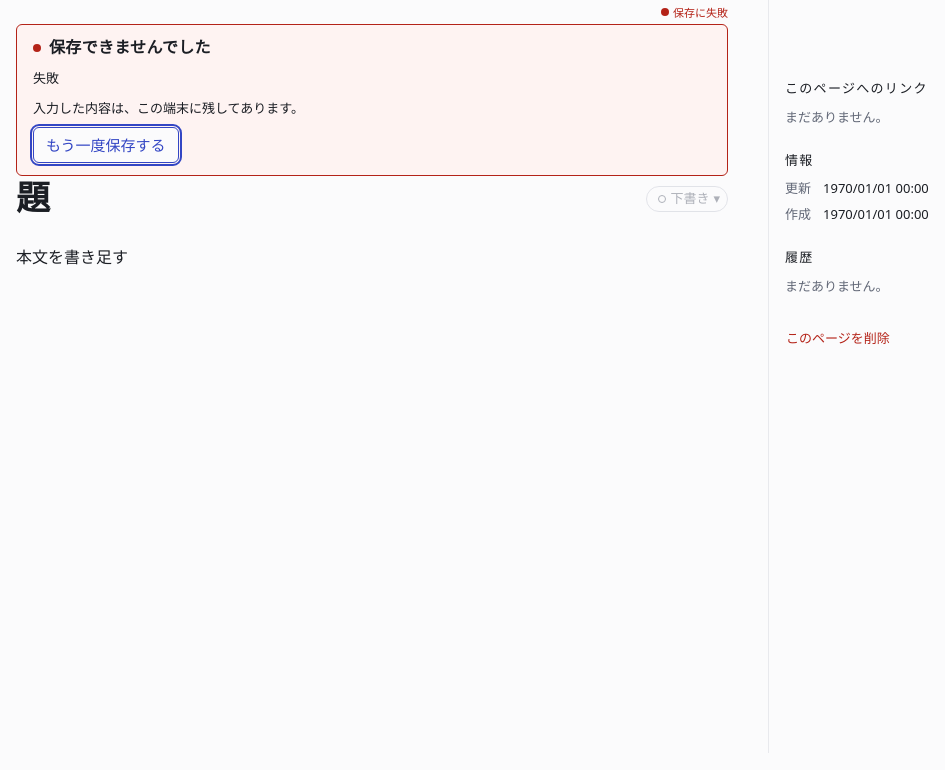
PageEditor と本文のエディタ › 再送のボタンへ focus を戻す印 › 再送が成功したら、待つ間の置き場から本文へ focus を移し、body に落とさない
Click the button "もう一度保存する": (106, 145) [33,127,179,163]
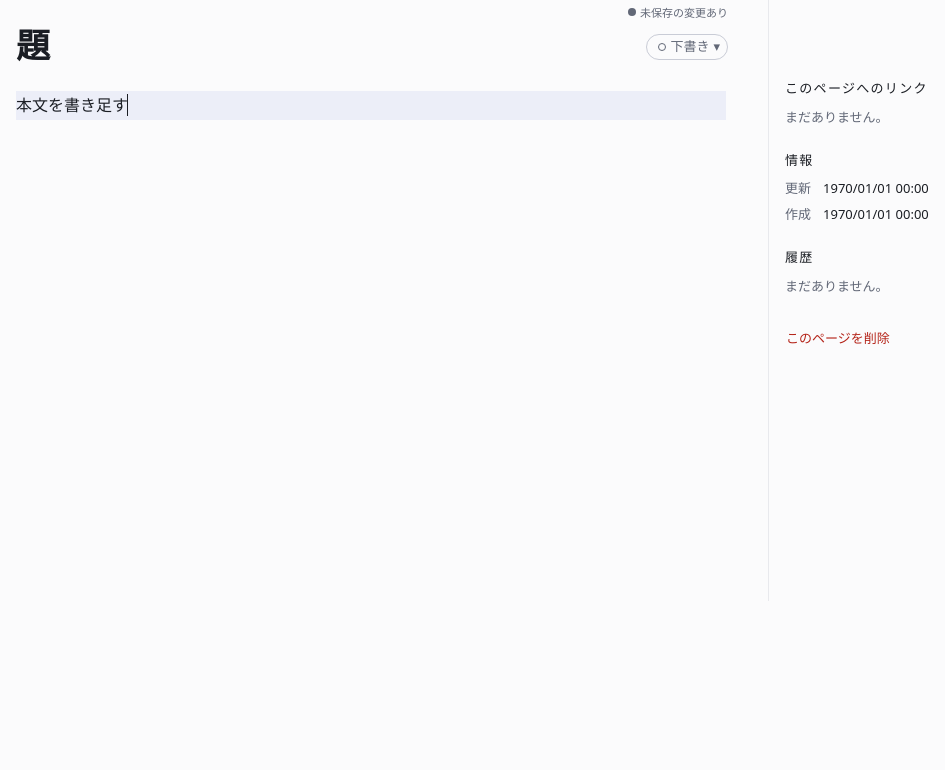
Now the button with class "button-main" is gone
